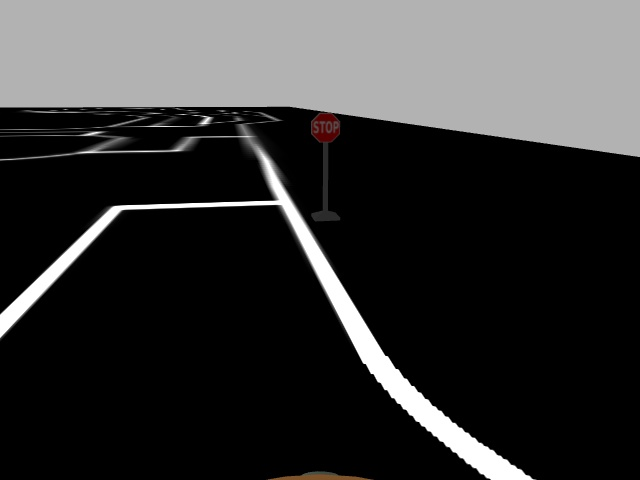stop: (307, 111, 343, 144)
